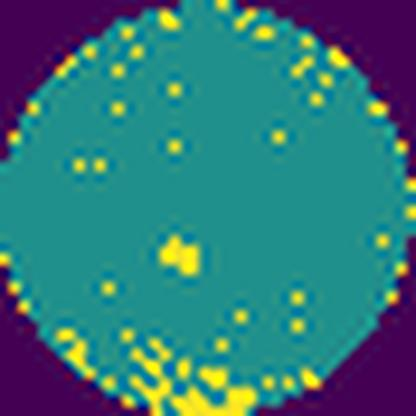Edge-Loc: (122, 330, 261, 416)
